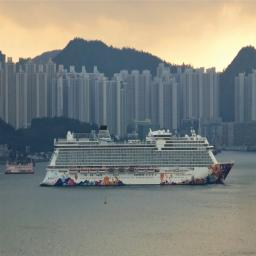cruises: (40, 123, 236, 193)
